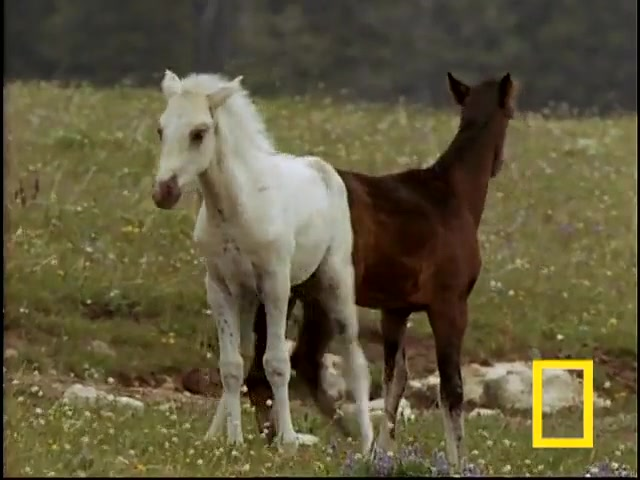horse: (152, 69, 379, 463)
